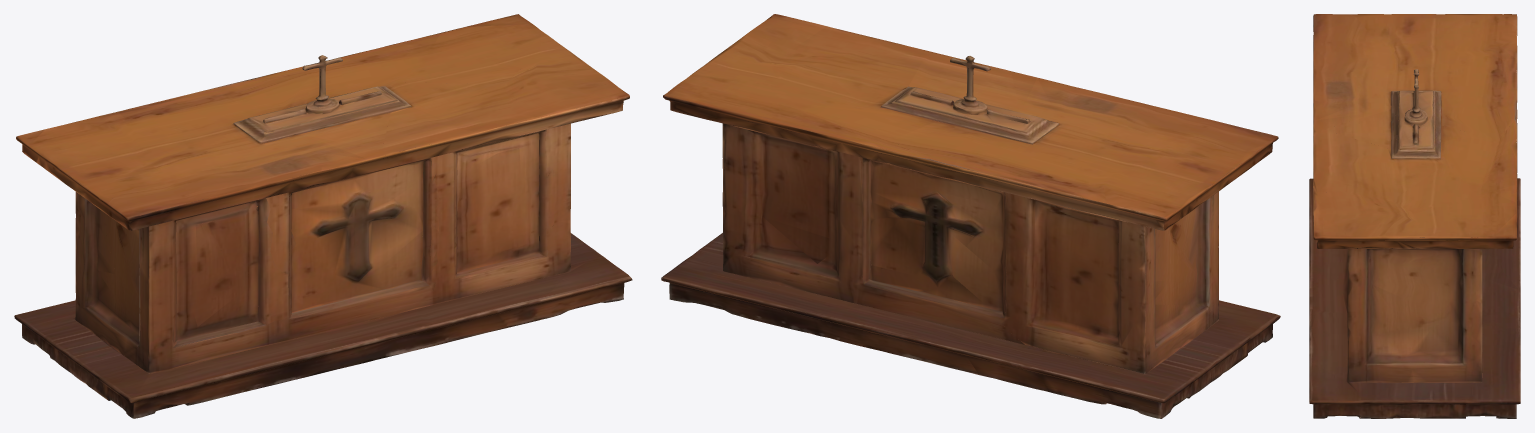
Rendered from altar.glb.
3 renders of one model, left to right at view 1: azimuth 30°, elevation 25°; view 2: azimuth 150°, elevation 25°; view 3: azimuth 270°, elevation 25°, orthographic. The views are drawn at different scales.
Visible parts, largest first — view 1: geometry_0; view 2: geometry_0; view 3: geometry_0.
Boxes of the visible parts, x1=… form: geometry_0: x1=14, y1=14, x2=632, y2=418; geometry_0: x1=661, y1=14, x2=1280, y2=418; geometry_0: x1=1309, y1=14, x2=1520, y2=418.
Size of the model in its own units: 2 by 1 by 0.8002.
Materials: 1 (1 with a texture image).
